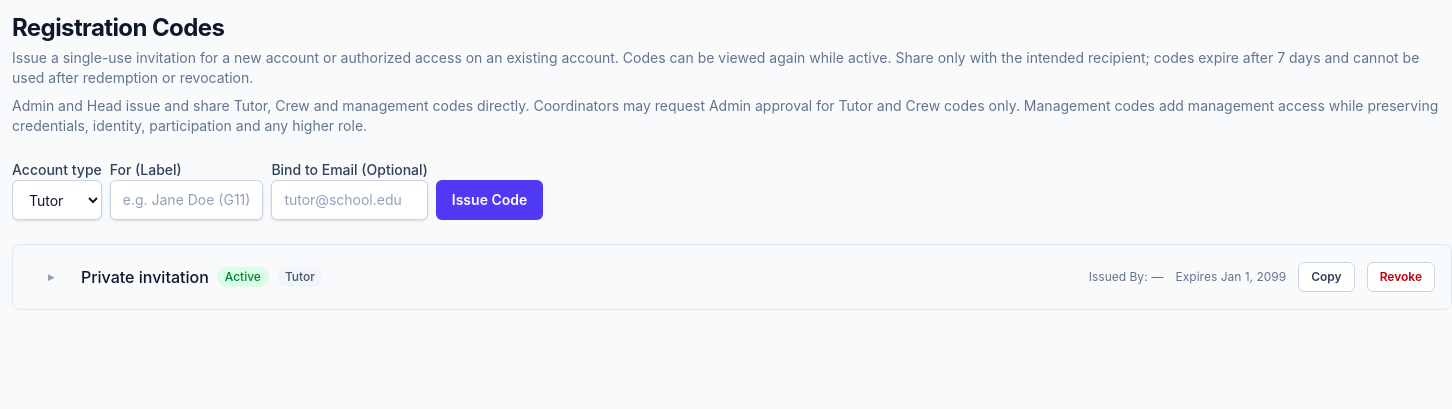
Test case: associates en invitation labels and retains draft fields through failure
Expected: the text "Private invitation" is shown, [81, 265, 209, 289]
Step 1. Type "Unsaved invitation" into the field labelled "For (Label)" → (187, 200), box [110, 180, 263, 220]
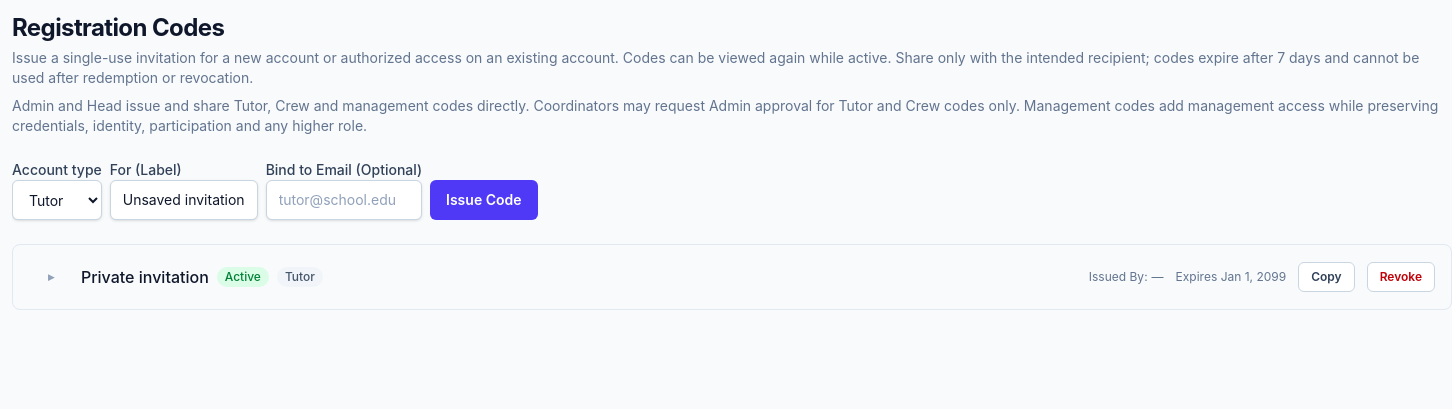
Step 2. Type "synthetic@example.test" into the field labelled "Bind to Email (Optional)" → (344, 200), box [266, 180, 422, 220]
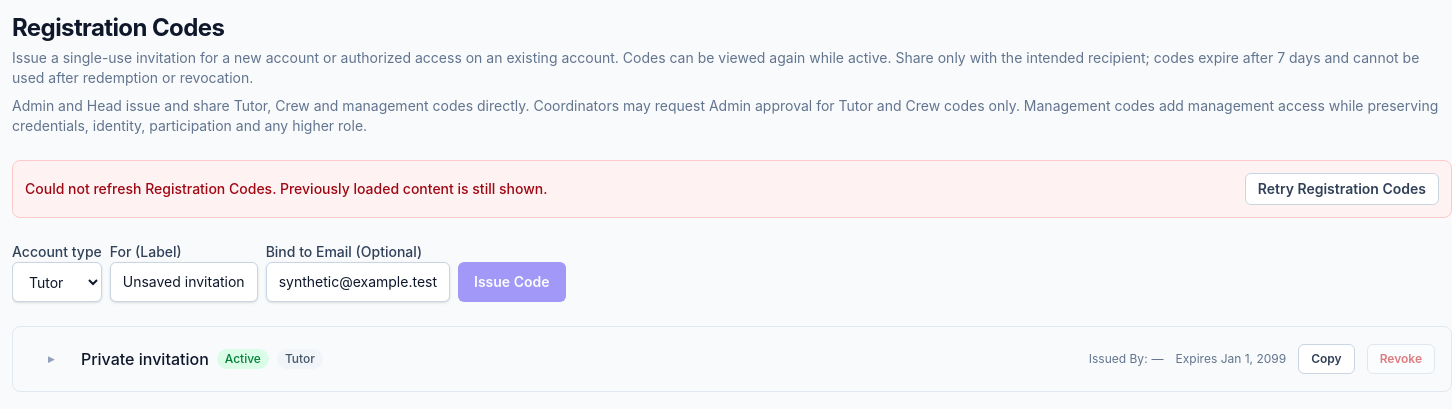
Expected: the text "Private invitation" is shown, [81, 347, 209, 371]
Expected: the button "Issue Code" is disabled, [458, 262, 566, 302]
